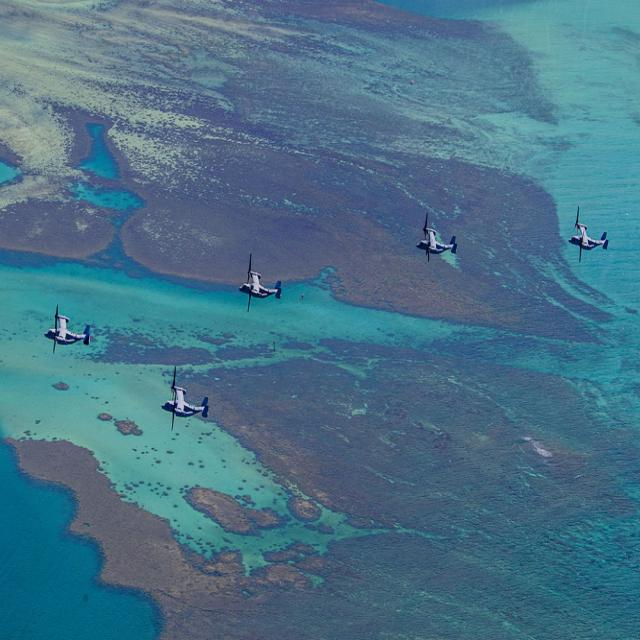MIL_Plane: (160, 364, 209, 430), (238, 252, 282, 313), (43, 302, 91, 354), (568, 205, 609, 263), (416, 211, 458, 264)
